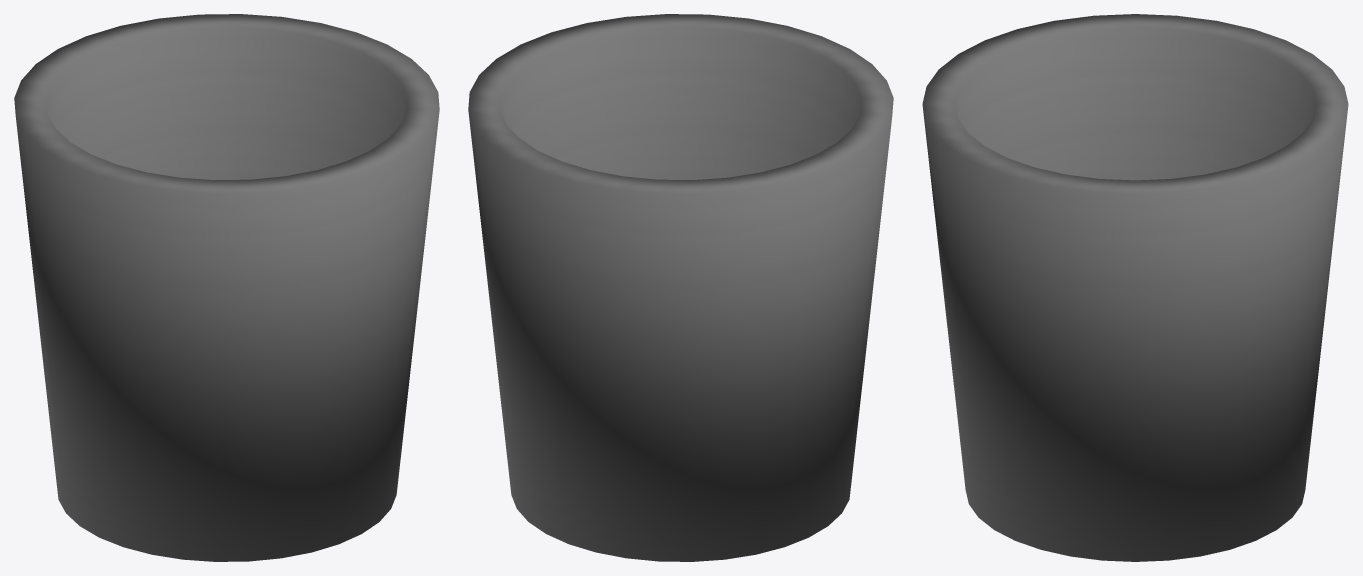
File: SM_Papelera.fbx
The picture shows the model from 3 angles, left to right: view 1: azimuth 30°, elevation 25°; view 2: azimuth 150°, elevation 25°; view 3: azimuth 270°, elevation 25°; orthographic projection.
Parts seen in each view (by area): view 1: Papelera; view 2: Papelera; view 3: Papelera.
Part boxes in pixels (bbox=[...]): Papelera: bbox=[14, 14, 439, 561]; Papelera: bbox=[468, 14, 893, 561]; Papelera: bbox=[922, 14, 1348, 561].
Bounding box in the file's own units: 53.31 × 53.31 × 53.31.
